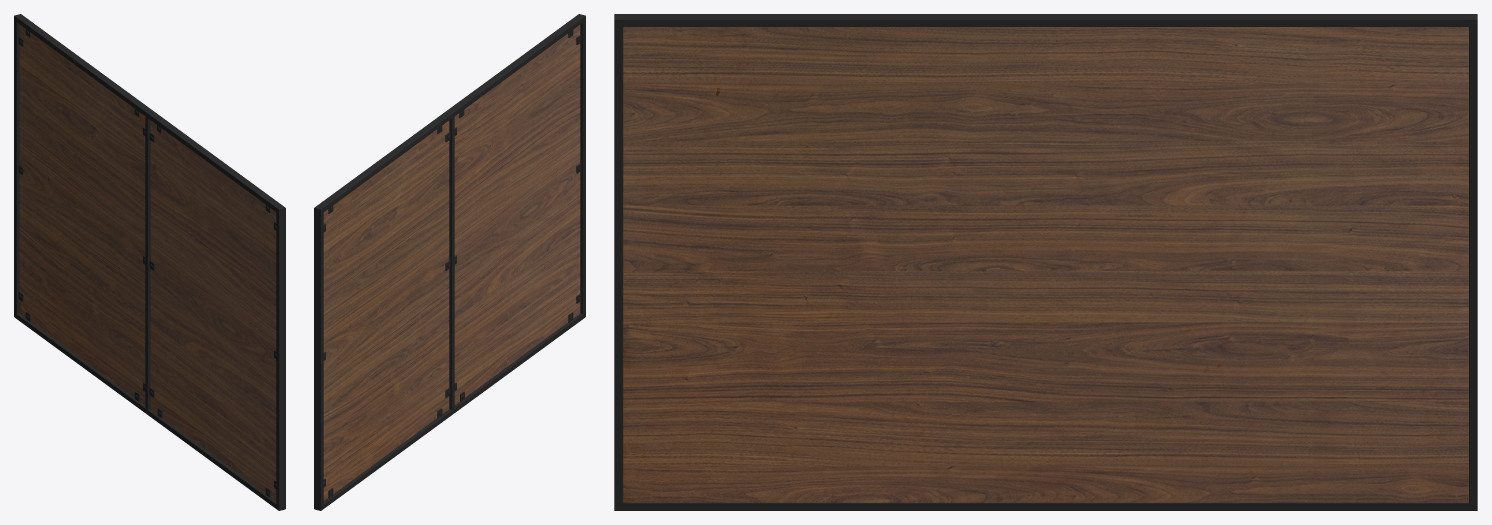
The model's file is headboard.glb.
The picture shows the model from 3 angles, left to right: view 1: azimuth 30°, elevation 25°; view 2: azimuth 150°, elevation 25°; view 3: azimuth 270°, elevation 25°; orthographic projection. The views are drawn at different scales.
Visible parts, largest first — view 1: wood, metal; view 2: wood, metal; view 3: wood, metal.
Boxes of the visible parts, x1=… form: wood: x1=19, y1=25, x2=276, y2=500; metal: x1=14, y1=14, x2=285, y2=510; wood: x1=323, y1=25, x2=580, y2=500; metal: x1=314, y1=14, x2=585, y2=510; wood: x1=623, y1=27, x2=1468, y2=502; metal: x1=614, y1=14, x2=1477, y2=510.
Bounding box in the file's own units: 0.03 × 1.22 × 1.94.
2 materials, 1 textured.
